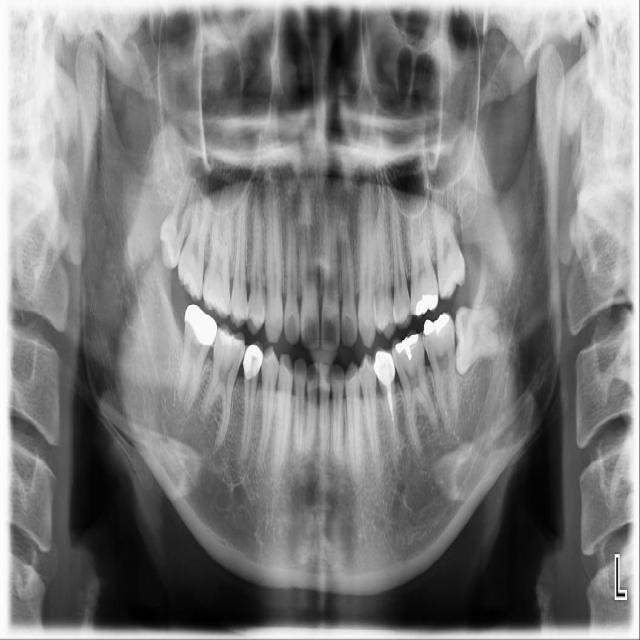3M ESPE Implant: (151, 169, 201, 271)
52: (171, 299, 228, 354), (386, 327, 434, 381), (421, 311, 456, 366), (410, 274, 439, 319), (372, 346, 395, 393), (243, 341, 263, 382)
73: (381, 388, 407, 466), (621, 609, 627, 615)
BioHorizons Implant: (425, 174, 469, 302)
Biomet 3i Implant: (453, 305, 501, 375)
Blue Sky Bio Implant: (420, 311, 460, 435)
Caries: (174, 169, 217, 303)
Implant: (174, 303, 220, 418)
